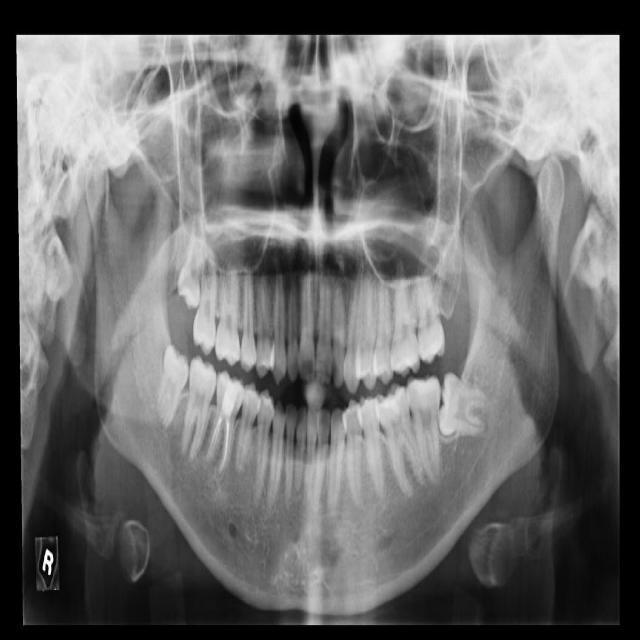Filling: (217, 370, 246, 417)
Root Canal Treatment: (208, 411, 223, 458), (219, 409, 229, 470)
impacted tooth: (439, 373, 491, 438), (154, 348, 190, 431), (177, 206, 205, 307)
